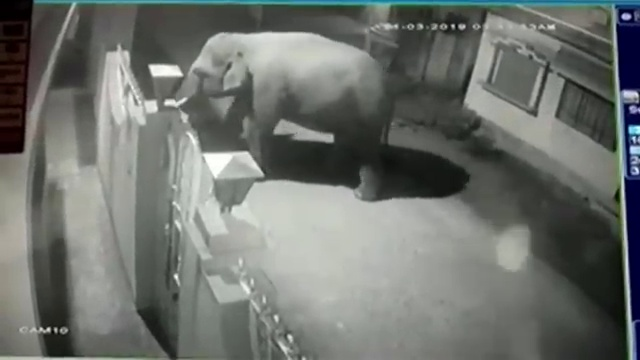Elephant: (175, 31, 392, 202)
